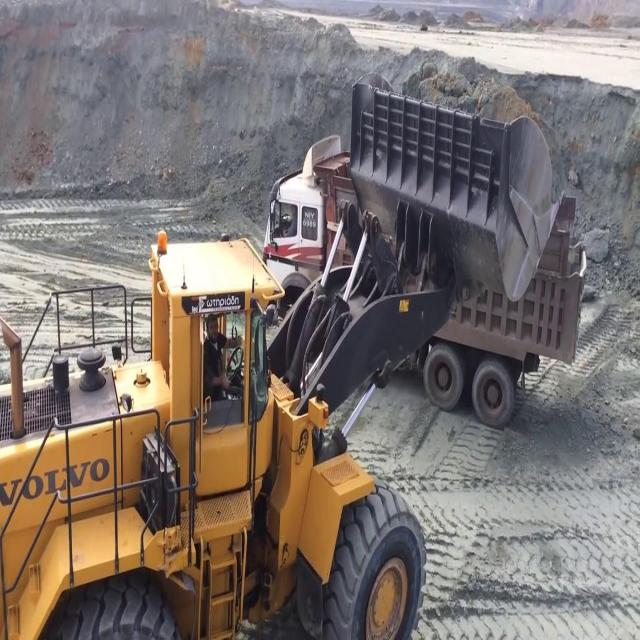Dump Truck: (261, 132, 587, 428)
Loader: (0, 68, 564, 638)
